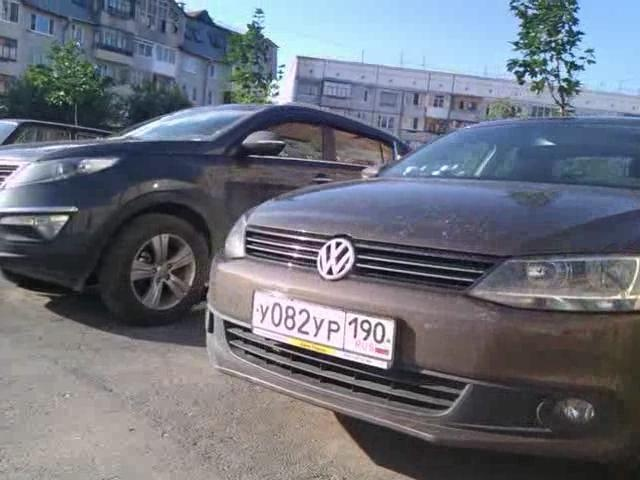car license plate: (249, 288, 404, 380)
